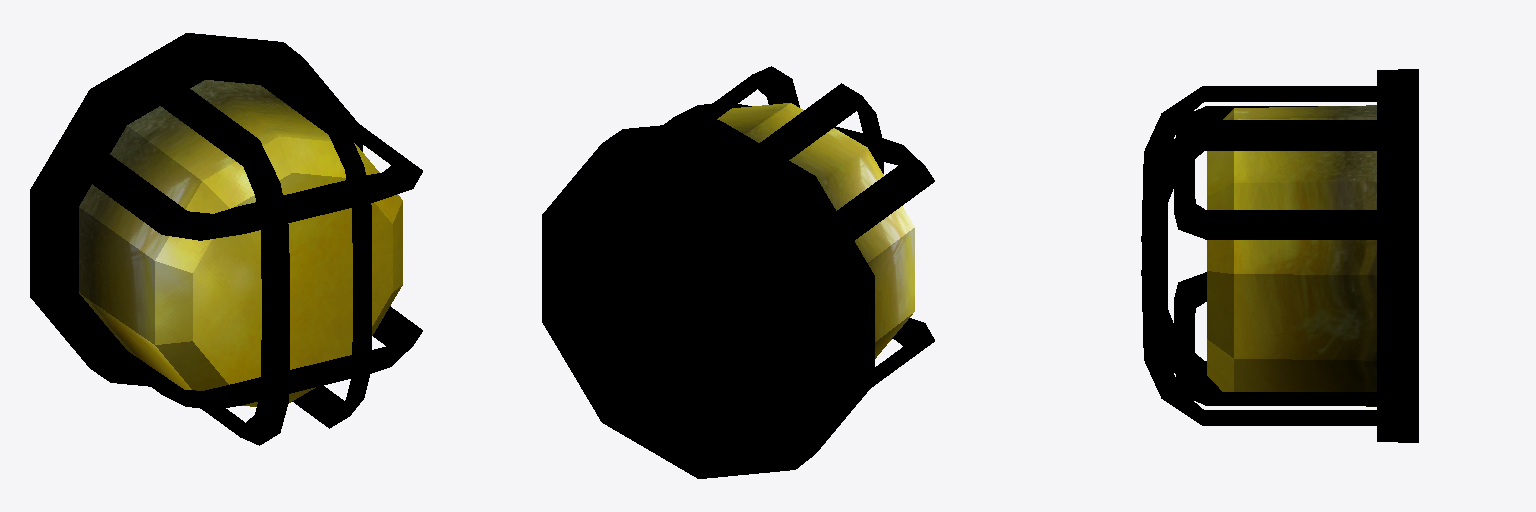
3 views of the same model, side by side, from view 1: azimuth 30°, elevation 25°; view 2: azimuth 150°, elevation 25°; view 3: azimuth 270°, elevation 25° (orthographic).
Parts seen in each view (by area): view 1: Cylinder; view 2: Cylinder; view 3: Cylinder.
Boxes of the visible parts, x1=… form: Cylinder: x1=30, y1=33, x2=422, y2=445; Cylinder: x1=542, y1=66, x2=934, y2=478; Cylinder: x1=1141, y1=69, x2=1418, y2=442.
Size of the model in its own units: 1.13 by 1.18 by 0.8609.
Materials: 1 (1 with a texture image).